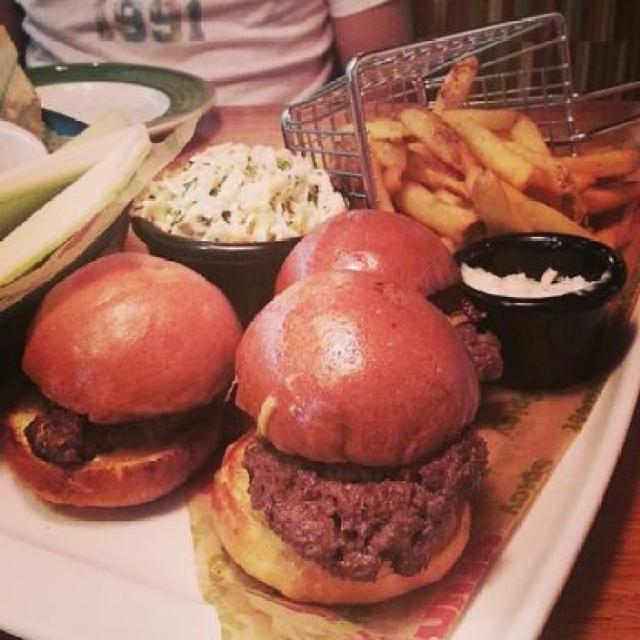Hamburger: (208, 270, 490, 606), (0, 252, 245, 510), (272, 206, 505, 385)
